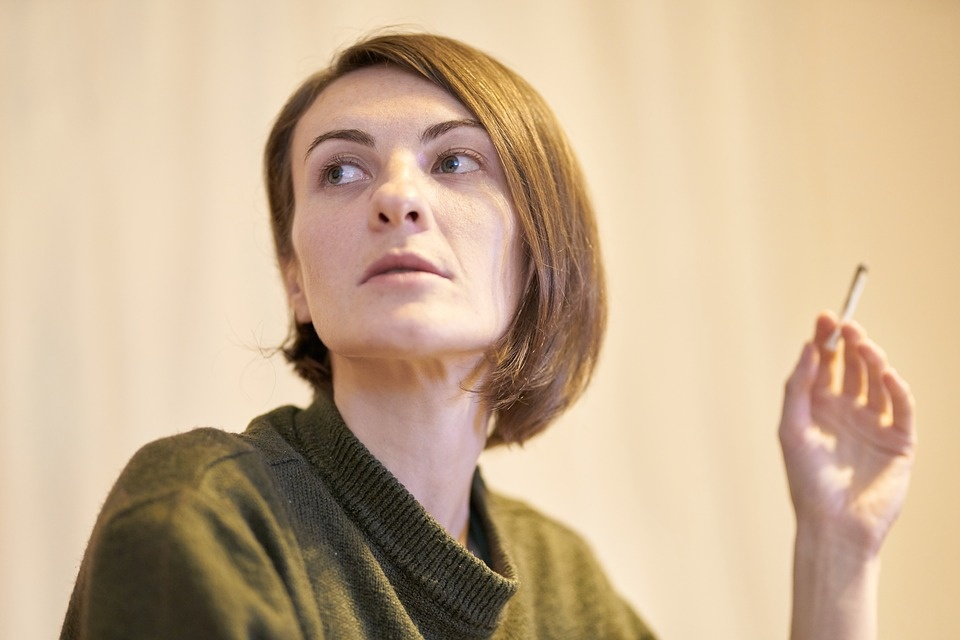sigaretta: (817, 262, 862, 353)
